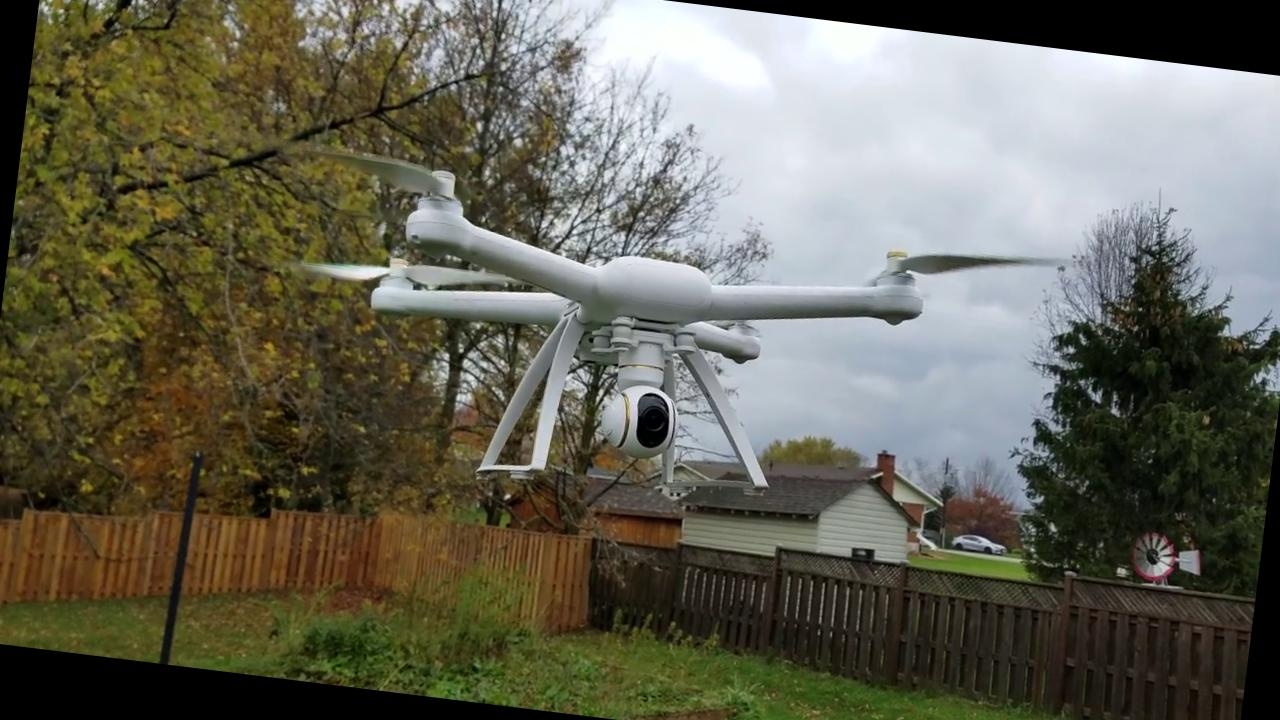drone: (258, 113, 1084, 462)
